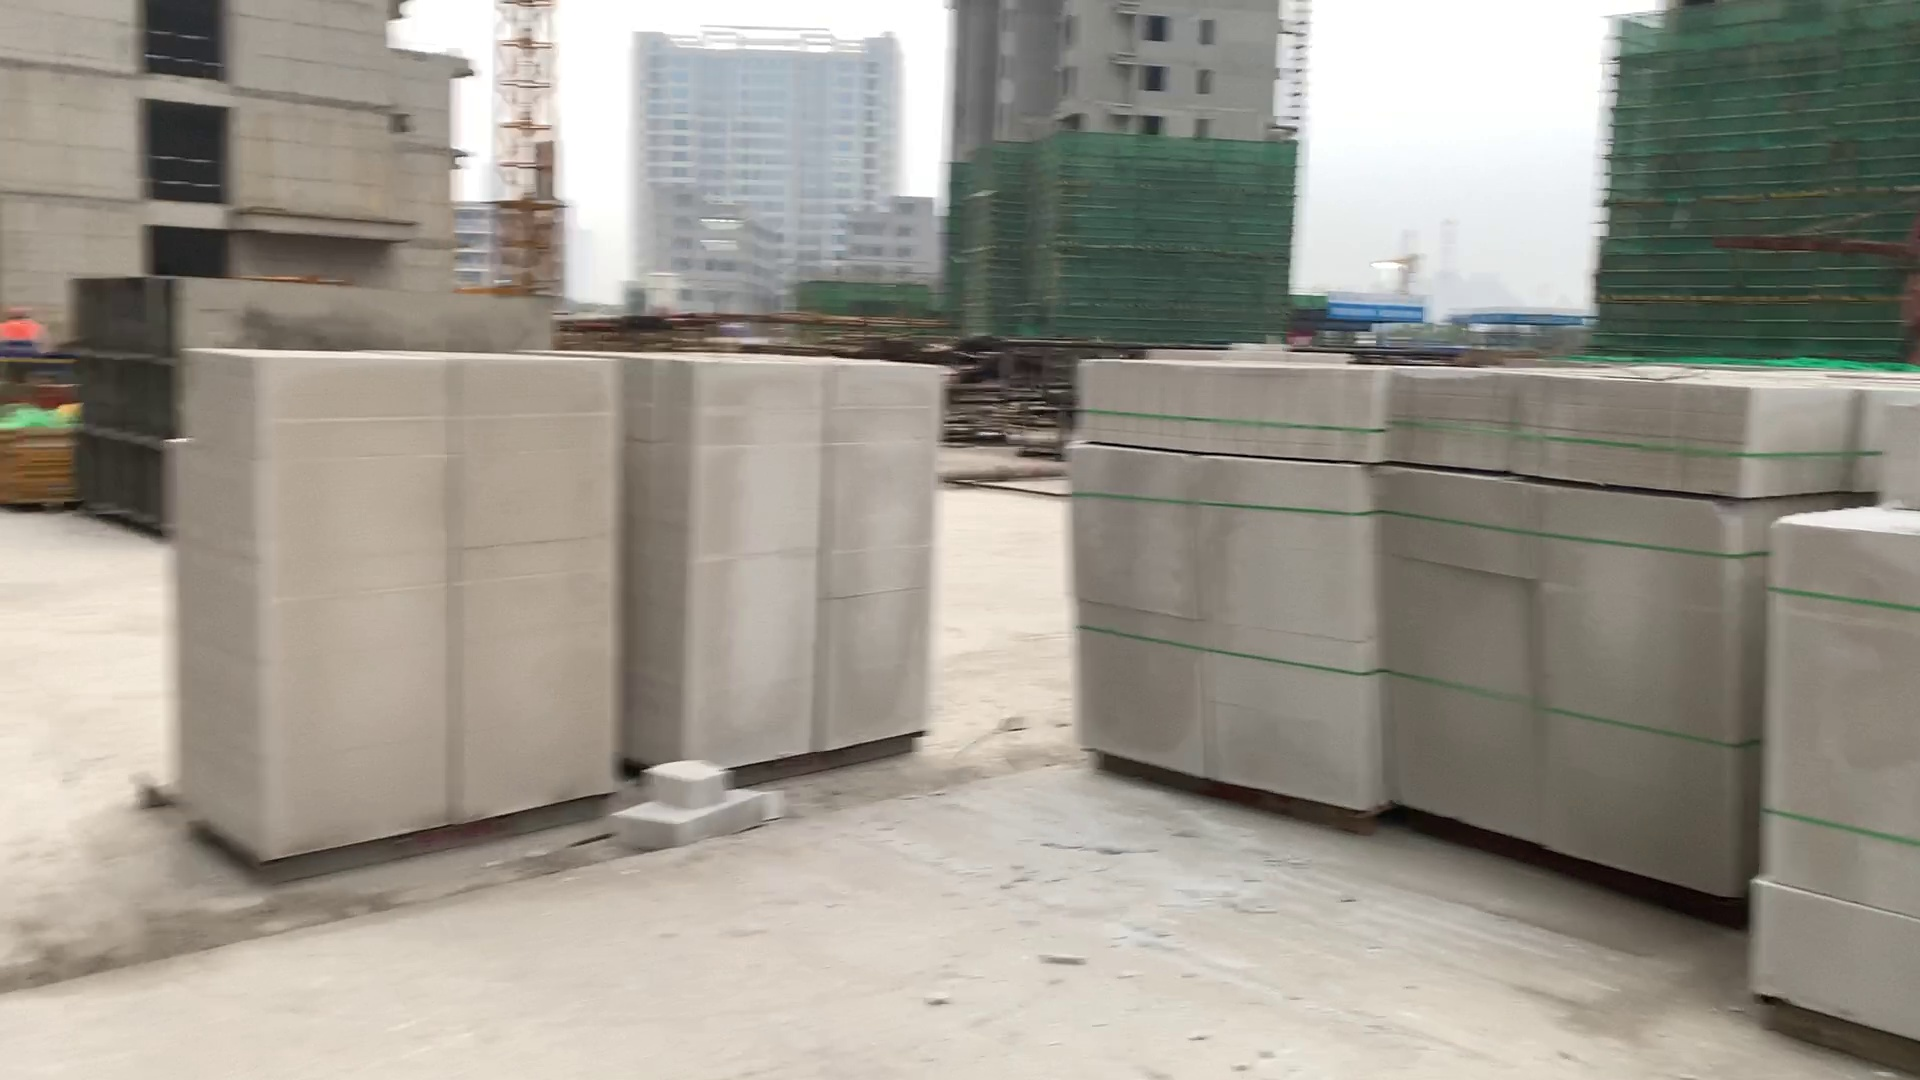brickwork: (169, 348, 622, 852), (1385, 360, 1753, 899), (1069, 352, 1377, 829), (642, 352, 942, 767), (1758, 400, 1920, 1058)
